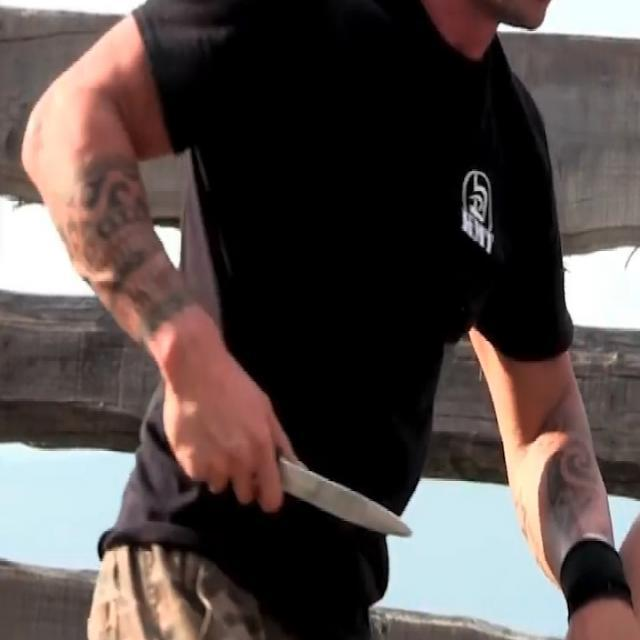suspicion: (18, 8, 418, 546), (280, 458, 414, 540)
